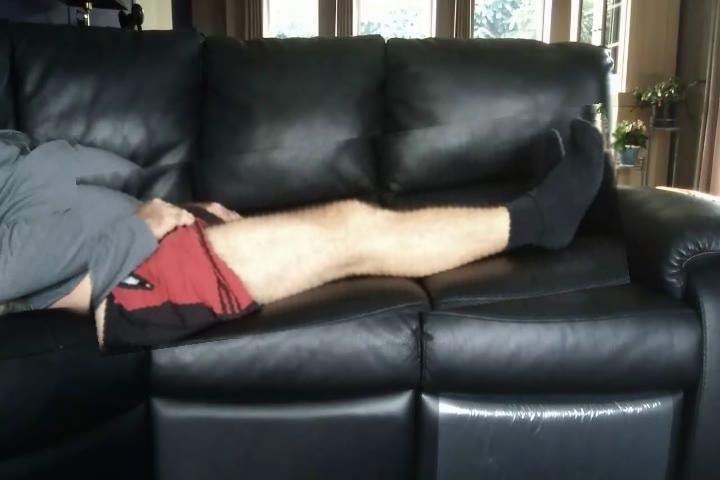lower_body: (81, 122, 626, 340)
